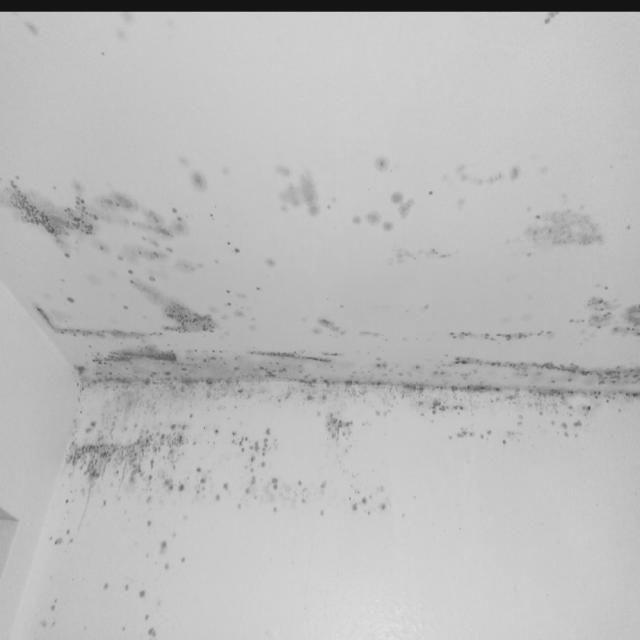stain marks: (0, 133, 640, 639)
